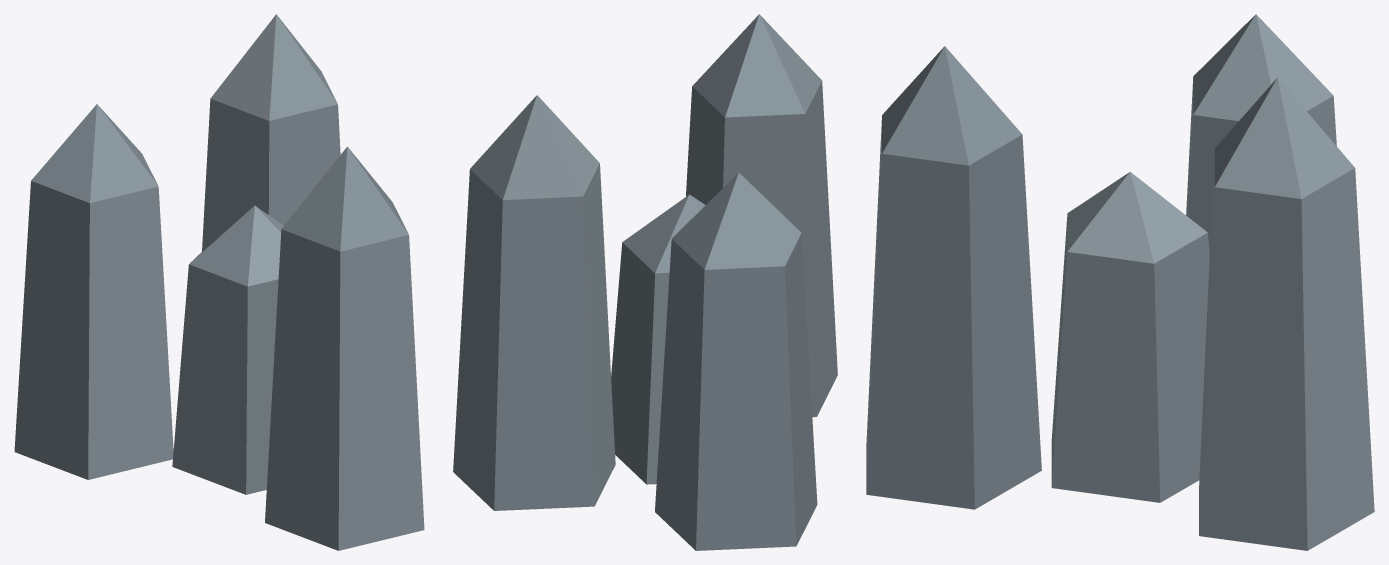
The model's file is glacier-crystals.glb.
3 renders of one model, left to right at view 1: azimuth 30°, elevation 25°; view 2: azimuth 150°, elevation 25°; view 3: azimuth 270°, elevation 25°, orthographic. The views are drawn at different scales.
Parts seen in each view (by area): view 1: glacier-crystals; view 2: glacier-crystals; view 3: glacier-crystals.
Boxes of the visible parts, <box> form: glacier-crystals: <box>14,14,424,550</box>; glacier-crystals: <box>453,14,837,550</box>; glacier-crystals: <box>866,14,1374,550</box>.
Bounding box in the file's own units: 0.5382 × 0.5927 × 0.6284.
